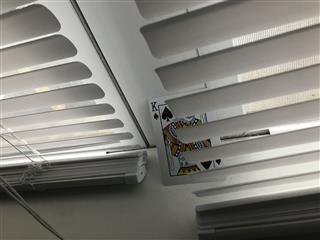KingOfSpades: (147, 87, 227, 186)
